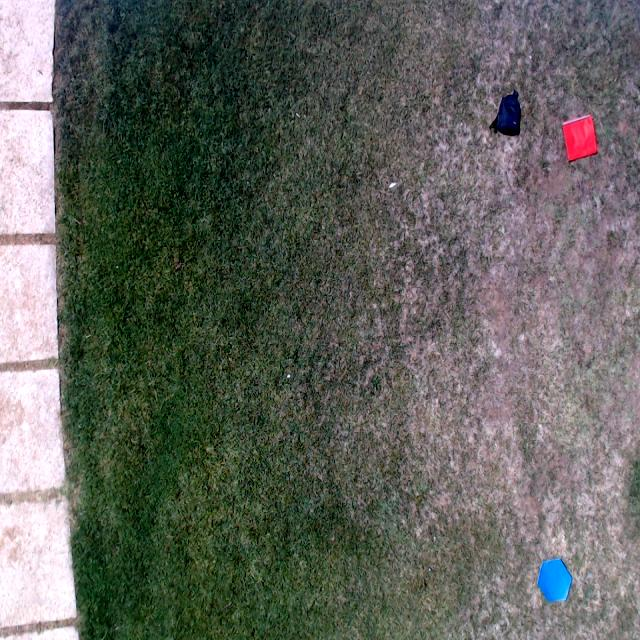blue_hexagon: (537, 558, 573, 602)
red_square: (562, 114, 599, 164)
